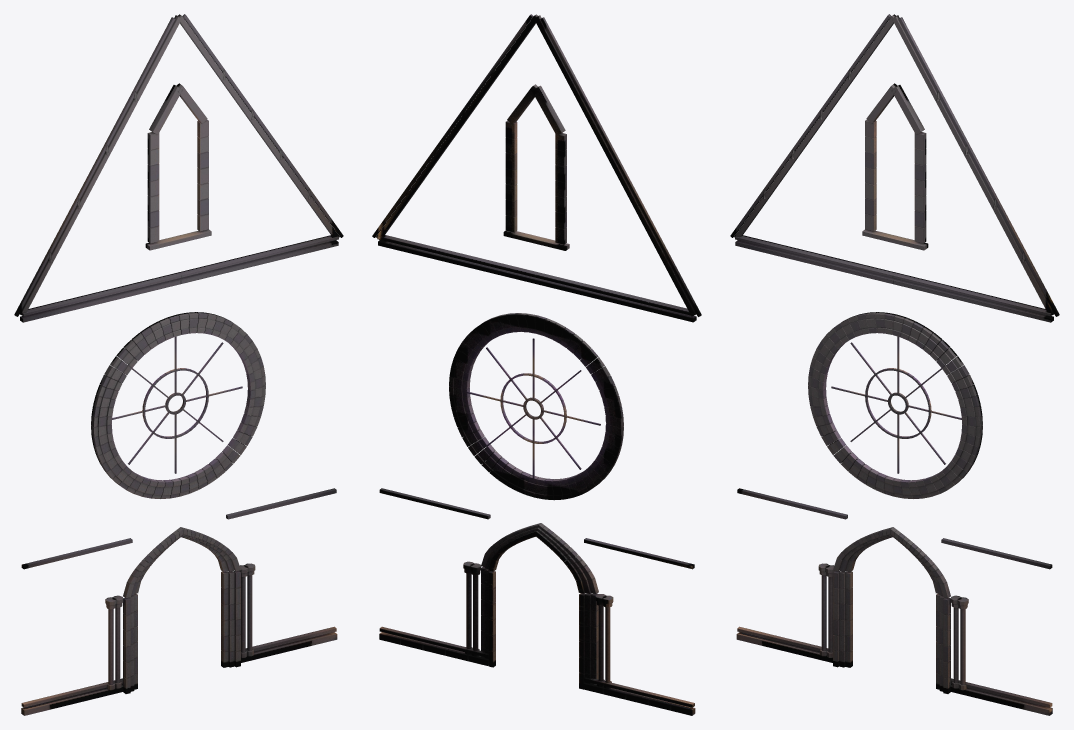
File: entrance_carved_trim.glb
The picture shows the model from 3 angles, left to right: view 1: azimuth 30°, elevation 25°; view 2: azimuth 150°, elevation 25°; view 3: azimuth 330°, elevation 25°; orthographic projection.
Parts seen in each view (by area): view 1: entrance_carved_trim.001; view 2: entrance_carved_trim.001; view 3: entrance_carved_trim.001.
Boxes of the visible parts, <box> form: entrance_carved_trim.001: <box>14,14,343,715</box>; entrance_carved_trim.001: <box>372,14,701,715</box>; entrance_carved_trim.001: <box>730,14,1059,715</box>.
Bounding box in the file's own units: 14.56 × 28.05 × 0.64.
1 material, 1 textured.
